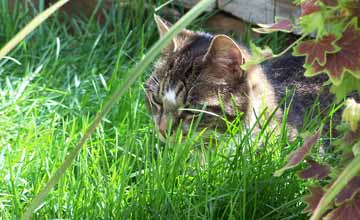cat: (143, 11, 285, 149)
